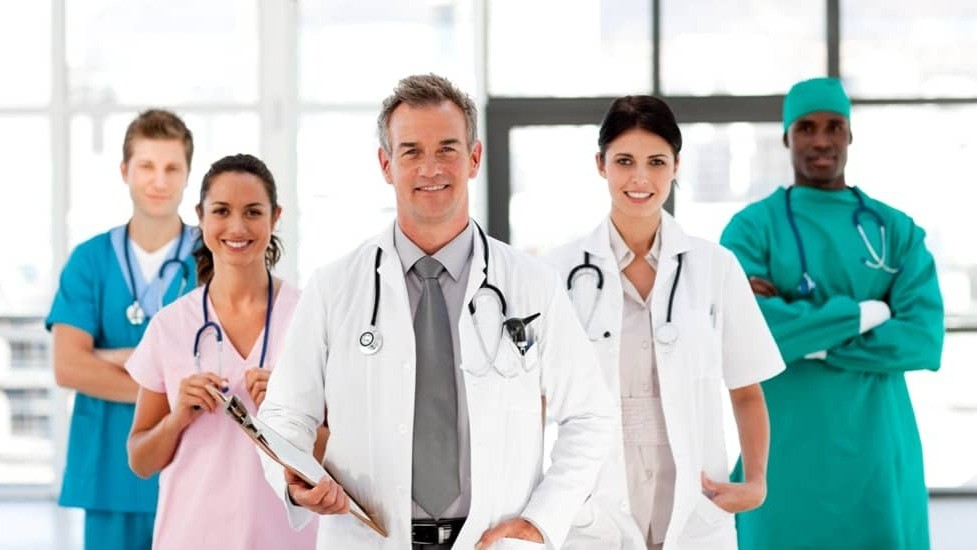personal_medico: (33, 51, 946, 547)
